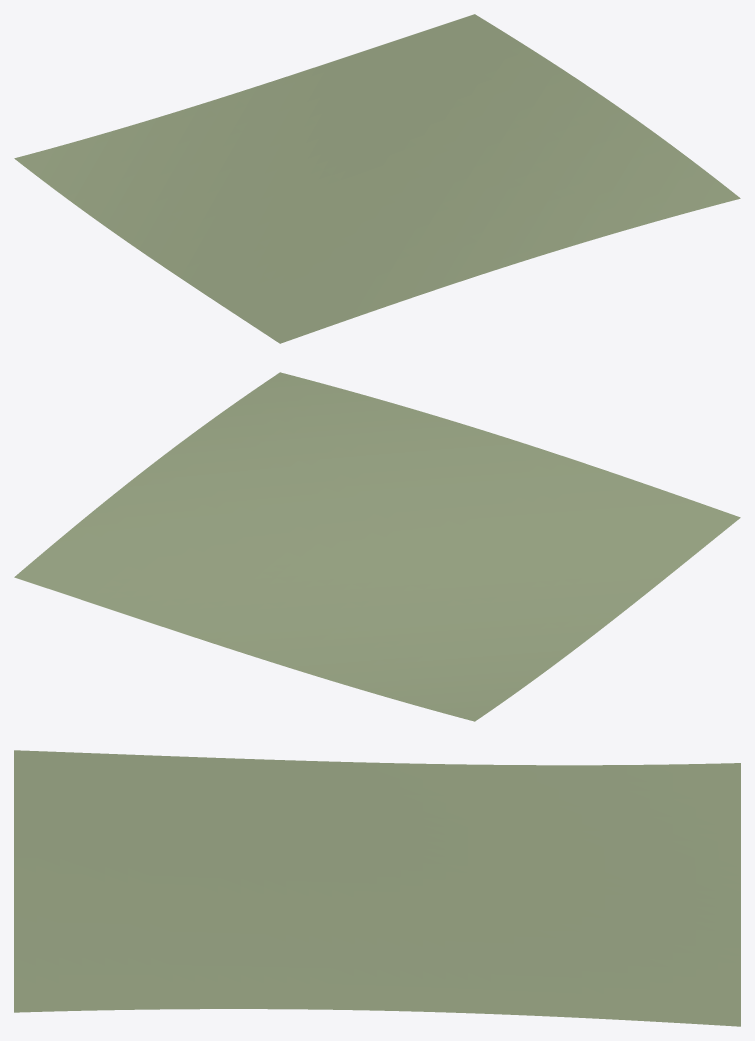
File: alpine-3-13.glb
3 views of the same model, one above another, from view 1: azimuth 30°, elevation 25°; view 2: azimuth 150°, elevation 25°; view 3: azimuth 270°, elevation 25° (orthographic). The views are drawn at different scales.
Visible parts, largest first — view 1: alpine-3-13; view 2: alpine-3-13; view 3: alpine-3-13.
Boxes of the visible parts, x1,y1,x2,y2 form: alpine-3-13: (14,14,740,343); alpine-3-13: (14,372,740,721); alpine-3-13: (14,750,740,1026).
Bounding box in the file's own units: 256 × 24.64 × 256.
